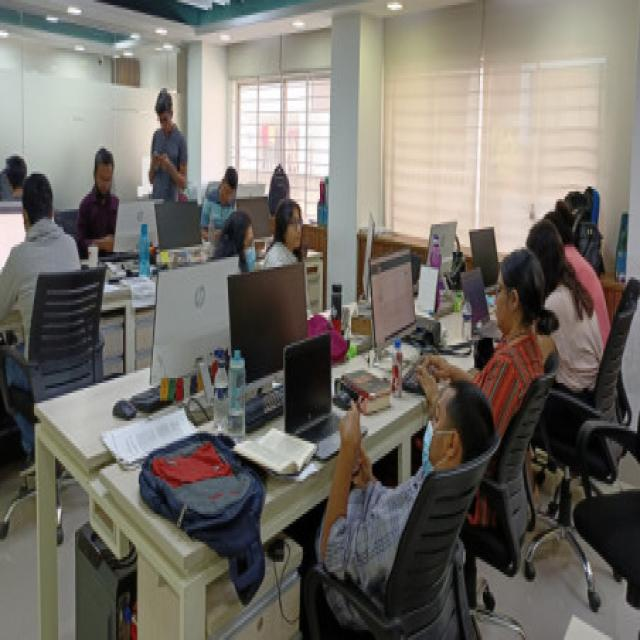keyboard-with-hands: (401, 354, 441, 392)
